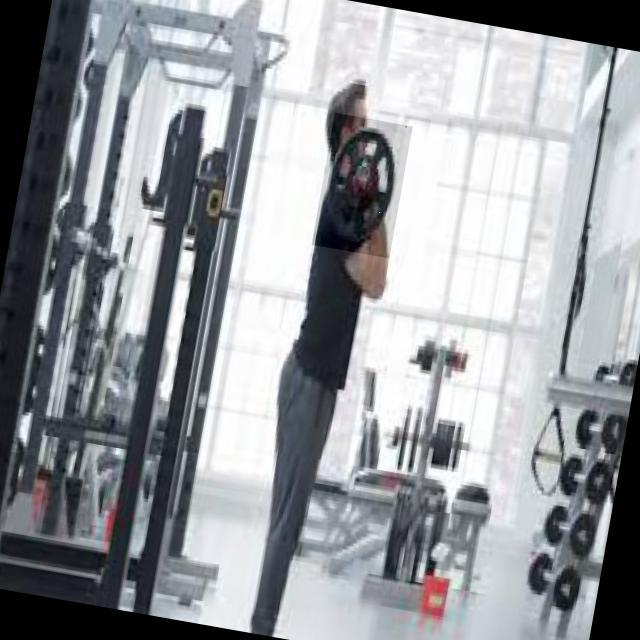barbell: (312, 113, 413, 259)
